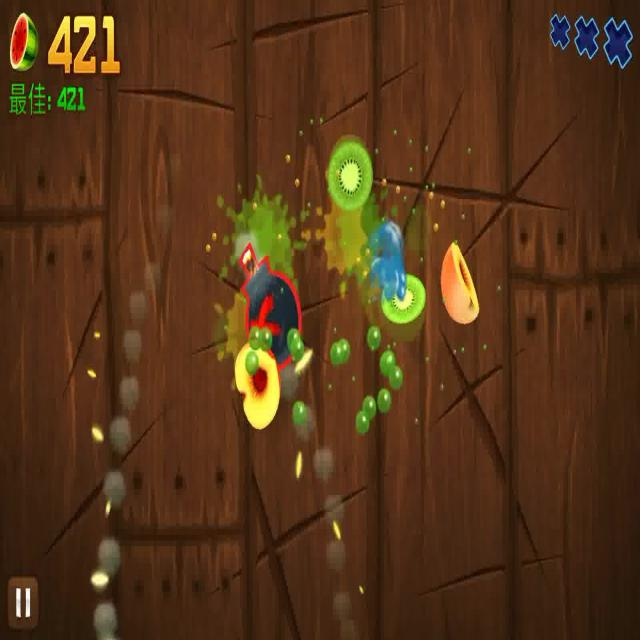bomb: (240, 238, 299, 369)
fruit: (230, 340, 284, 428), (328, 136, 377, 212), (439, 246, 480, 326), (379, 274, 426, 338)
